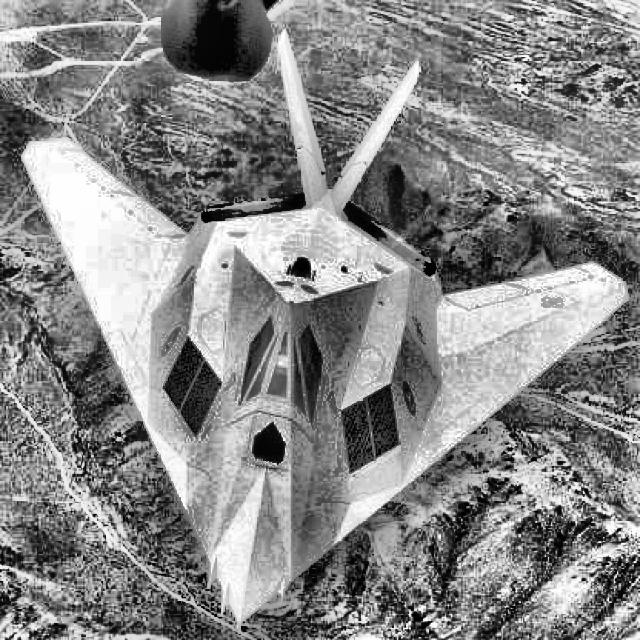F117: (20, 29, 631, 631)
